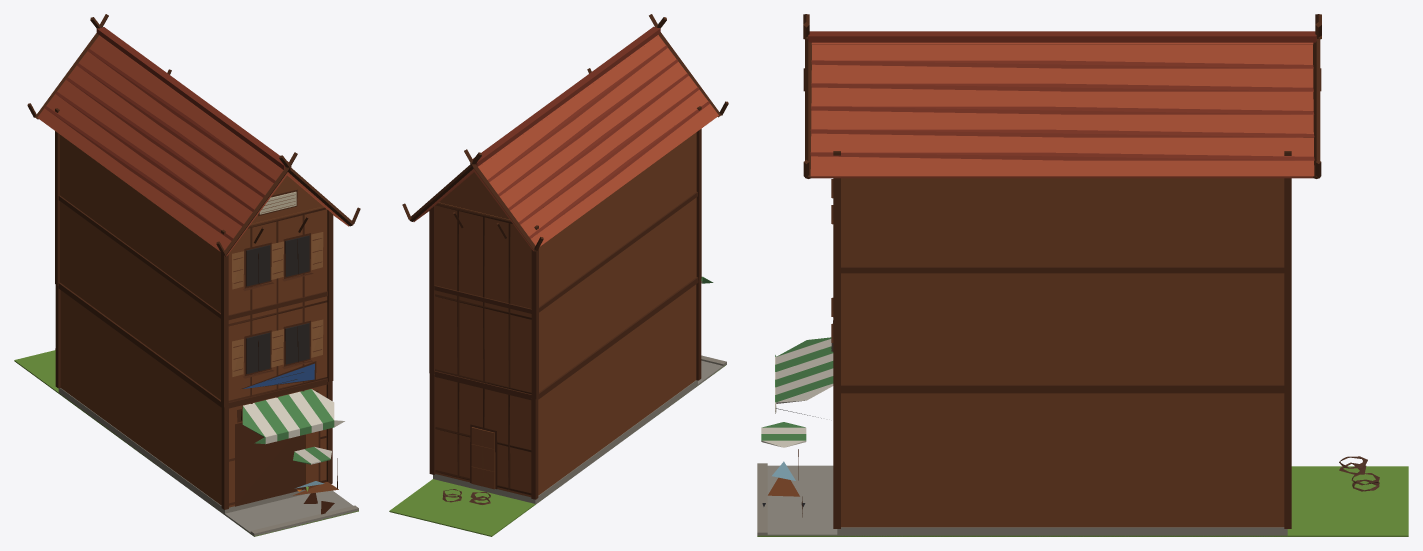
The model's file is bay2_mid.glb.
3 views of the same model, side by side, from view 1: azimuth 30°, elevation 25°; view 2: azimuth 150°, elevation 25°; view 3: azimuth 270°, elevation 25° (orthographic). The views are drawn at different scales.
Visible parts, largest first — view 1: body, windows; view 2: body; view 3: body.
Part boxes in pixels (bbox=[...]): body: bbox=[14, 14, 360, 536]; windows: bbox=[246, 235, 309, 373]; body: bbox=[389, 14, 728, 536]; body: bbox=[757, 14, 1408, 536].
Bounding box in the file's own units: 5.52 × 13.06 × 15.9.
